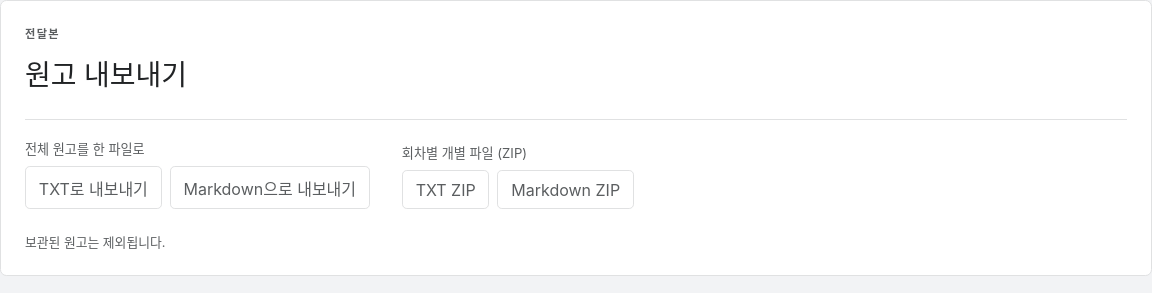
Test: ProjectExportPanel › does not start a second export while the first is in flight
What coordinates should you click on to do the following:
click the button "TXT로 내보내기"
I would click on:
 (93, 188)
Its box is [25,166,162,209].
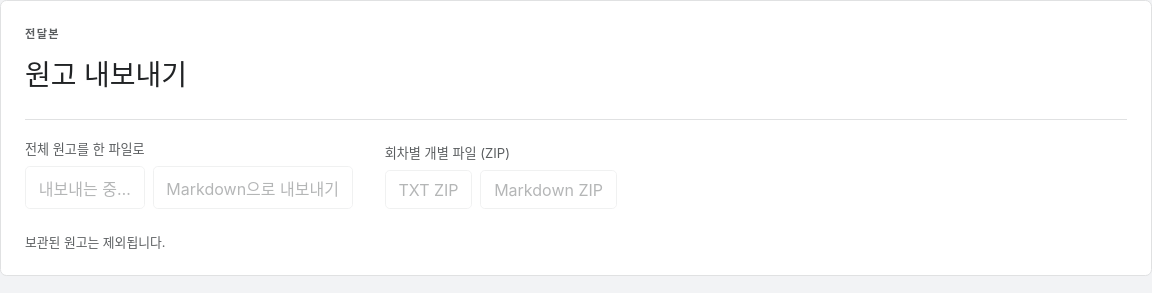
expect the button "내보내는 중…" is disabled: met, box [25,166,144,209]
expect the button "Markdown ZIP" is disabled: met
What coordinates should you click on to do the following:
click the button "Markdown ZIP"
I would click on:
 (549, 190)
Its box is [480,170,617,209].
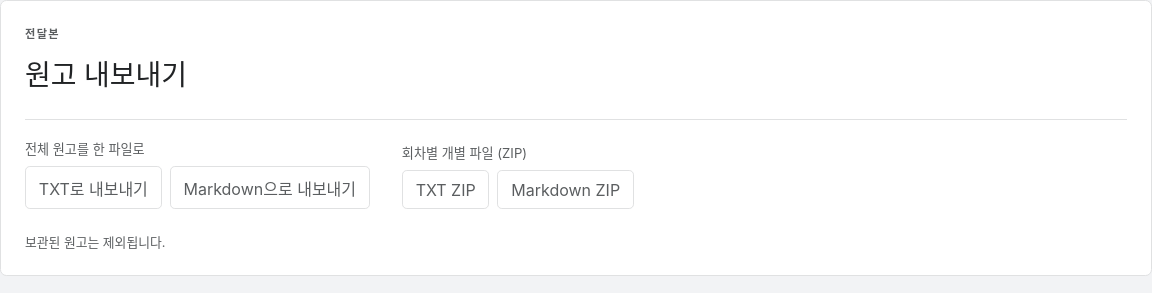
expect the button "TXT로 내보내기" is enabled: met, box [25,166,162,209]
